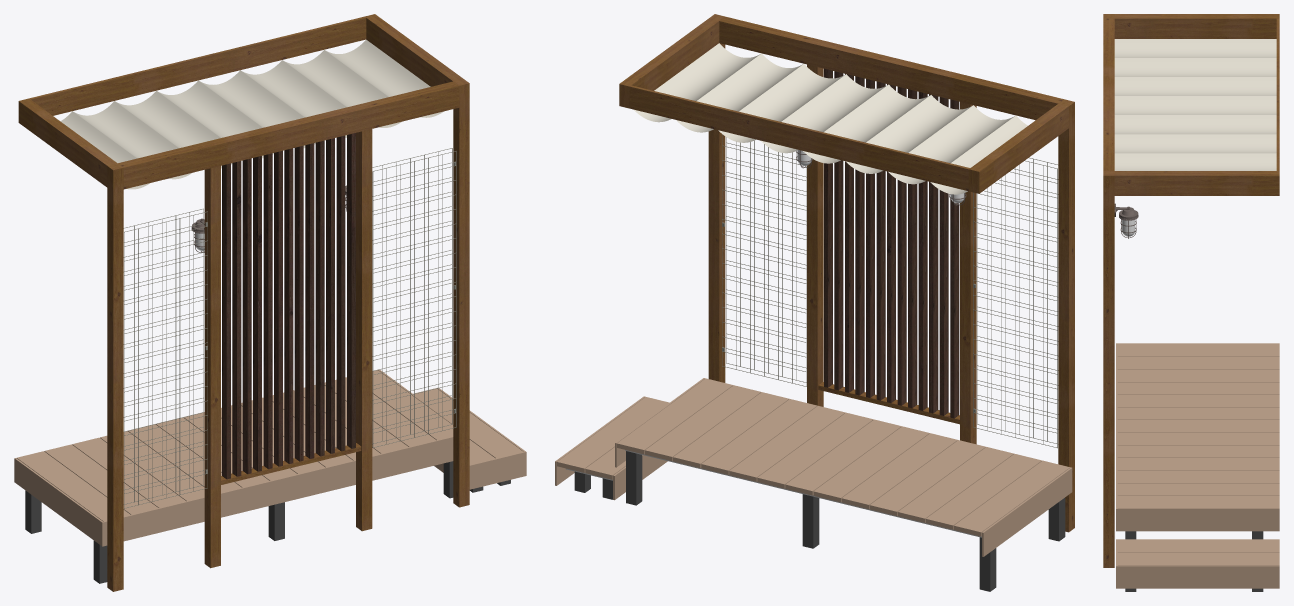
File: fp8-g_w3026-d1180_naturalpine.fbx
3 renders of one model, left to right at view 1: azimuth 30°, elevation 25°; view 2: azimuth 150°, elevation 25°; view 3: azimuth 270°, elevation 25°, orthographic. The views are drawn at different scales.
Visible parts, largest first — view 1: fp8-g_w3026-d1180_naturalpine; view 2: fp8-g_w3026-d1180_naturalpine; view 3: fp8-g_w3026-d1180_naturalpine.
Part boxes in pixels (left/top/right/bottom): fp8-g_w3026-d1180_naturalpine: left=14, top=14, right=526, bottom=591; fp8-g_w3026-d1180_naturalpine: left=555, top=14, right=1074, bottom=591; fp8-g_w3026-d1180_naturalpine: left=1103, top=14, right=1279, bottom=591.
Size of the model in its own units: 305 by 290 by 118.
13 materials, 5 textured.
